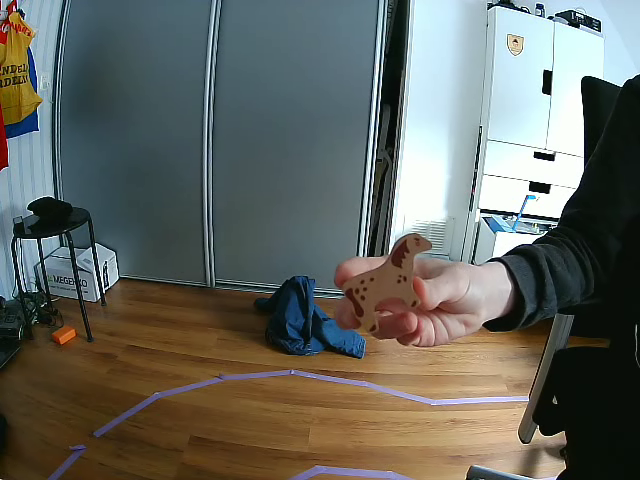paard: (344, 230, 430, 335)
